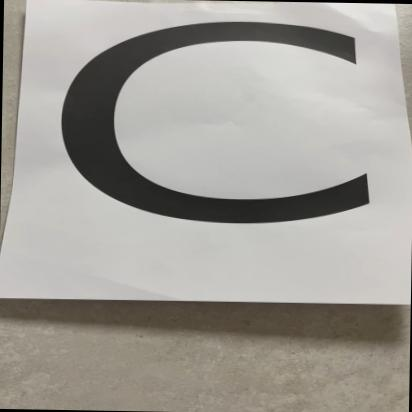seat: (29, 0, 411, 301)
